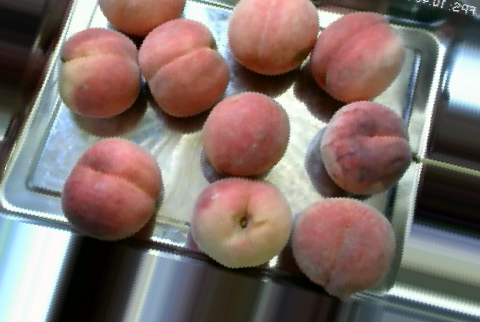Peach: (290, 196, 396, 298), (61, 136, 162, 240), (188, 177, 291, 271), (138, 18, 232, 117), (311, 11, 404, 102), (55, 28, 146, 121), (321, 101, 412, 194), (199, 90, 291, 177), (227, 0, 318, 76)
